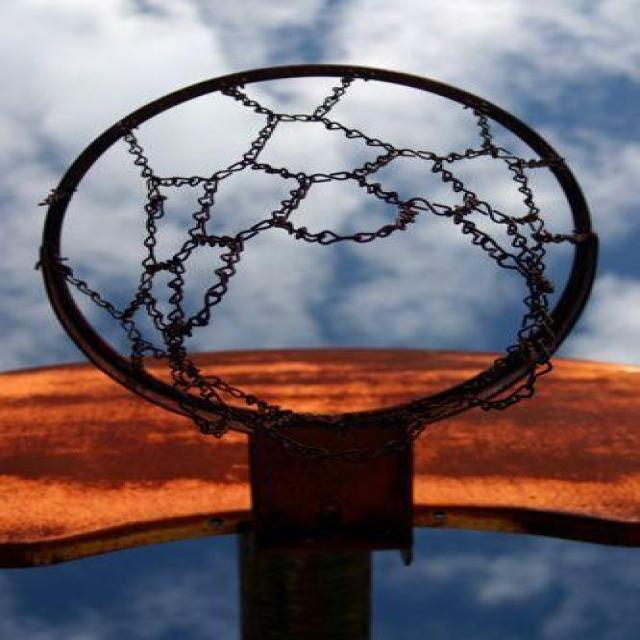hoop: (65, 51, 598, 472)
